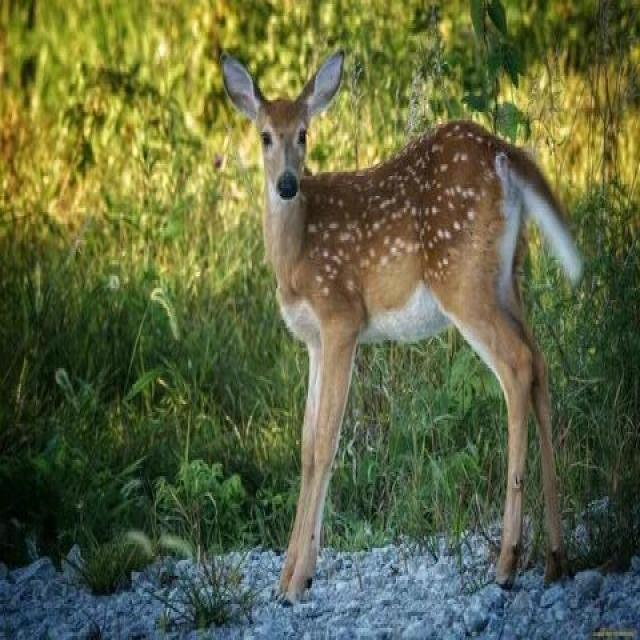deer: (177, 0, 579, 457)
